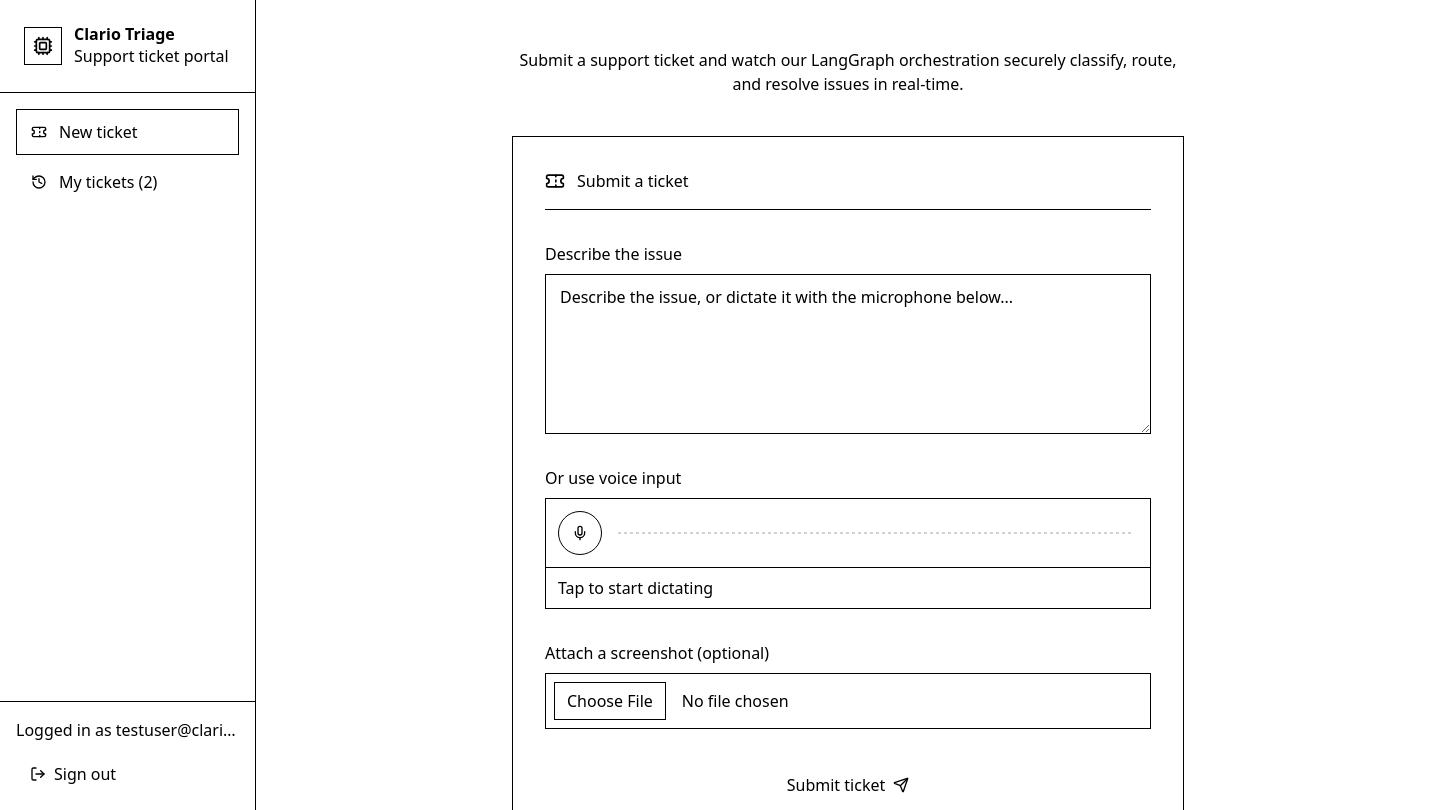
Test: User Workflow Scenarios › should allow user to review and interact with multiple tickets
The width and height of the screenshot is (1440, 810).
Expected: the heading "Clario Triage" is shown, [74,23,175,45]
Go to history
Click the button "My tickets (2)".
click(128, 182)  # box [16,159,239,205]
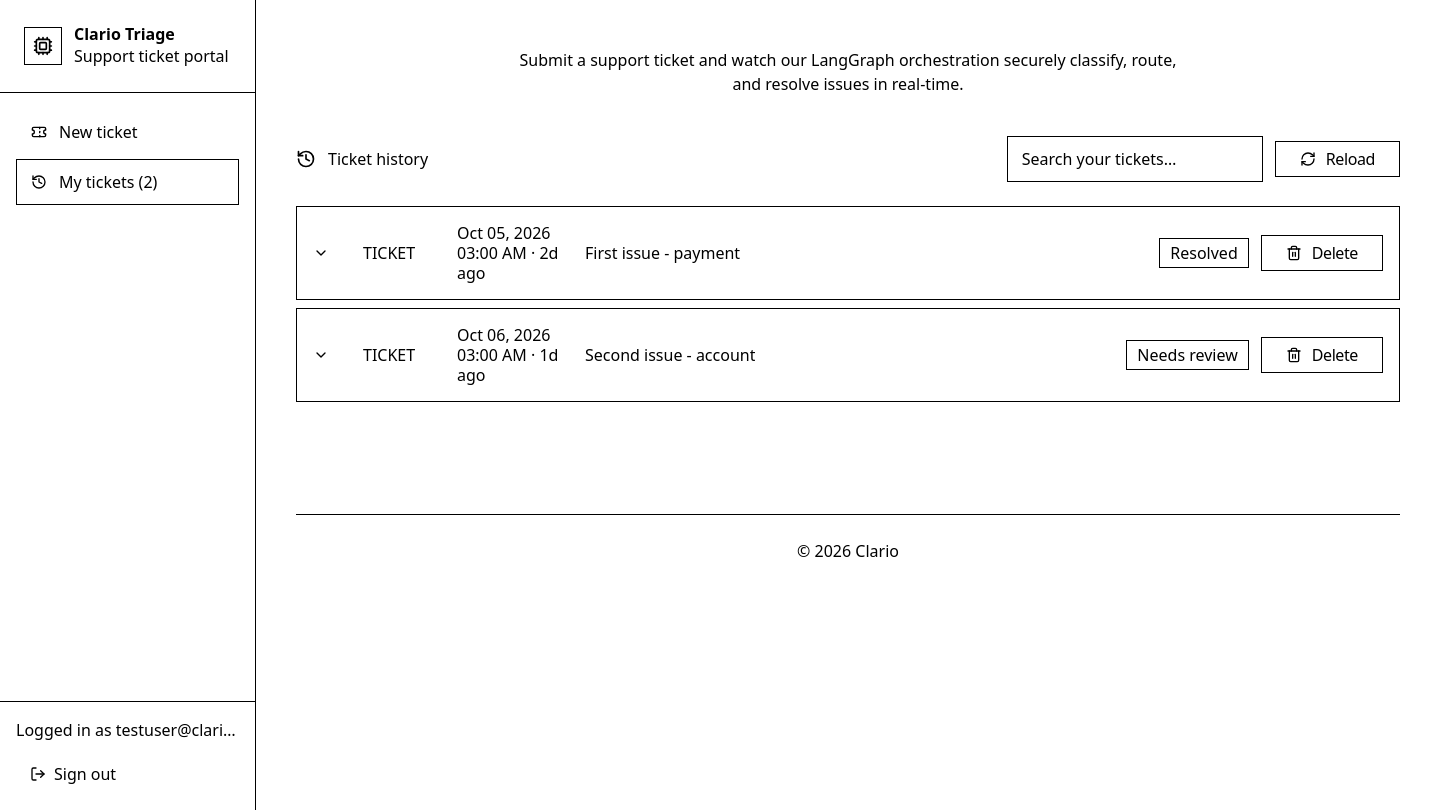
Now the text "First issue - payment" is shown, box [585,241,740,265]
Now the text "Second issue - account" is shown, box [585,343,756,367]
Now the text "Resolved" is shown, box [1159,238,1249,268]
